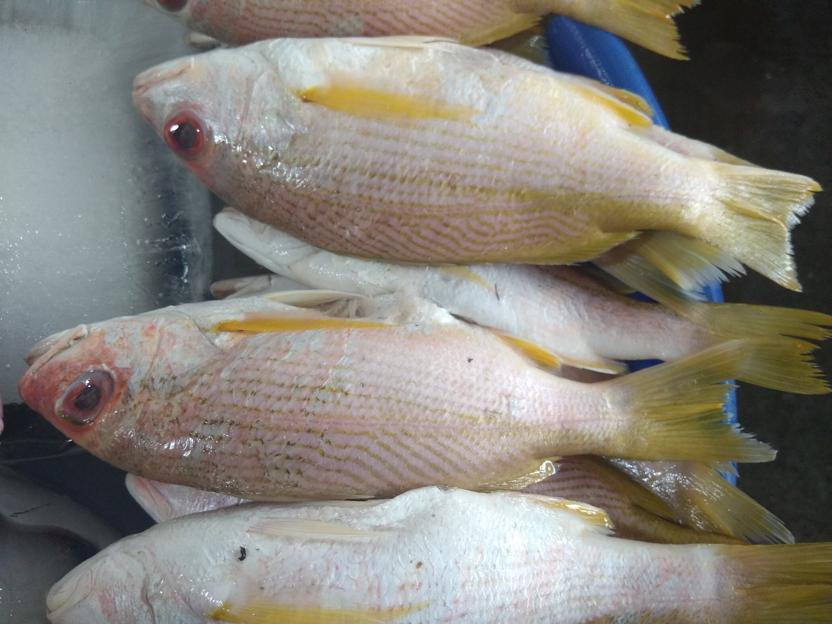Fish head: (17, 304, 208, 475), (129, 41, 292, 203), (43, 528, 165, 624)
Fish tail: (603, 336, 781, 464), (693, 158, 822, 293), (719, 304, 829, 395), (710, 542, 831, 624), (563, 1, 707, 64), (633, 227, 749, 291)
